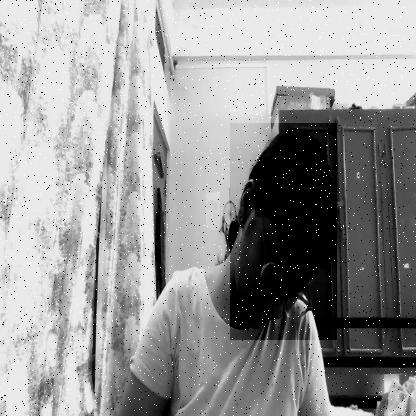Distracted: (230, 123, 337, 340)
